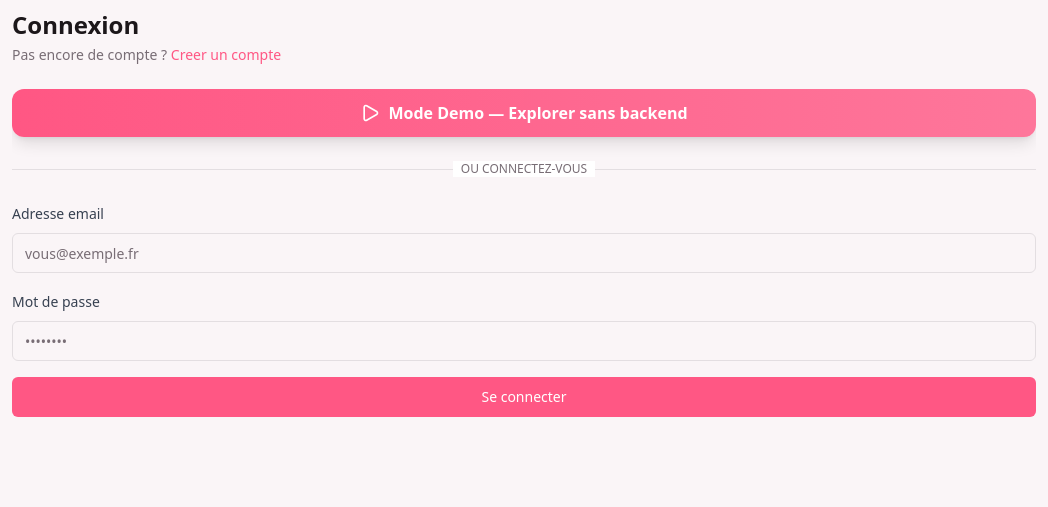
Test: LoginPage › shows server error when login fails
Type "test@example.com" into the field labelled "Adresse email" at (524, 253), box top-left (12, 233), bottom-right (1036, 273)
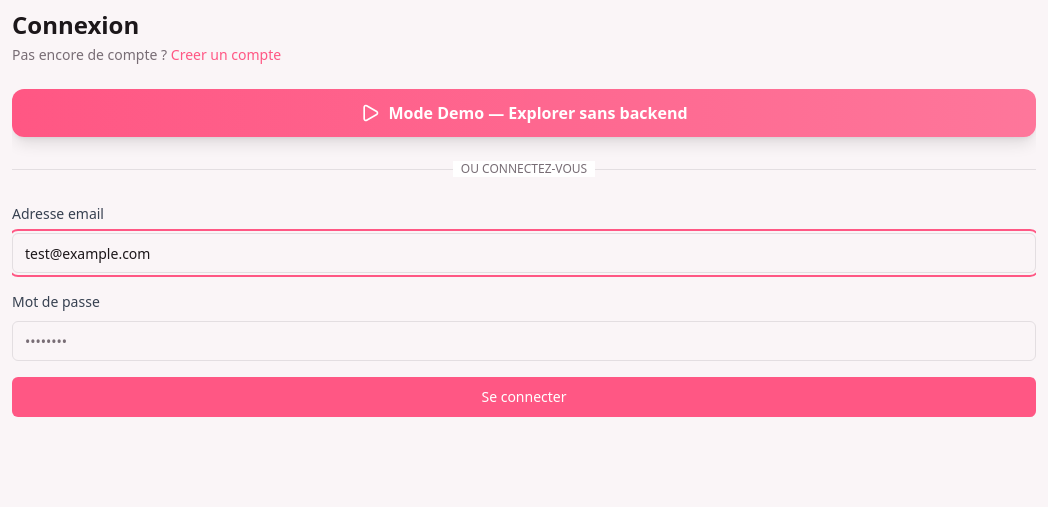
Type "wrongpassword" into the password field labelled "Mot de passe" at (524, 341), box top-left (12, 321), bottom-right (1036, 361)
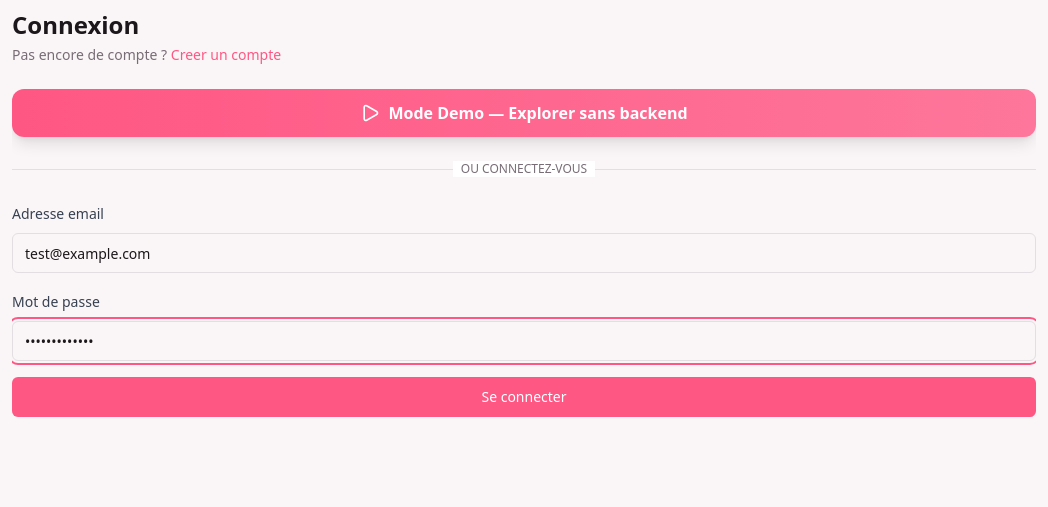
Click the button "Se connecter" at (524, 397), box top-left (12, 377), bottom-right (1036, 417)
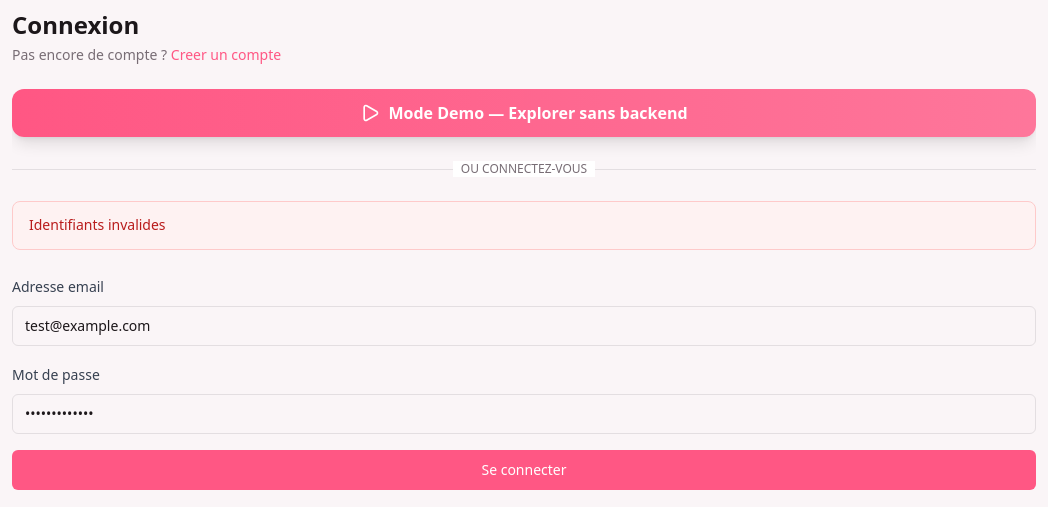
Check: the message reads "Identifiants invalides", box top-left (29, 215), bottom-right (166, 234)
